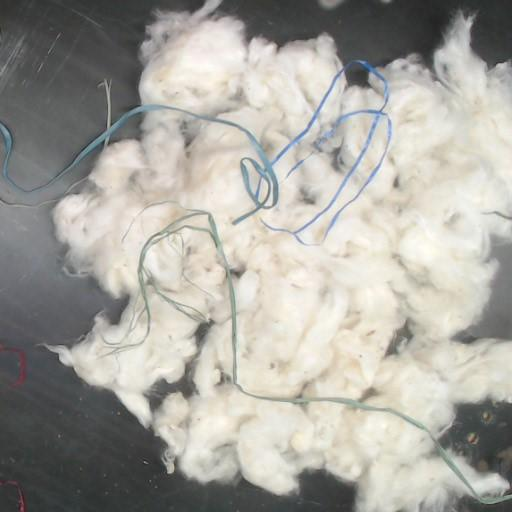cotton: (48, 0, 511, 511)
thread: (112, 210, 511, 503), (0, 60, 392, 246)
